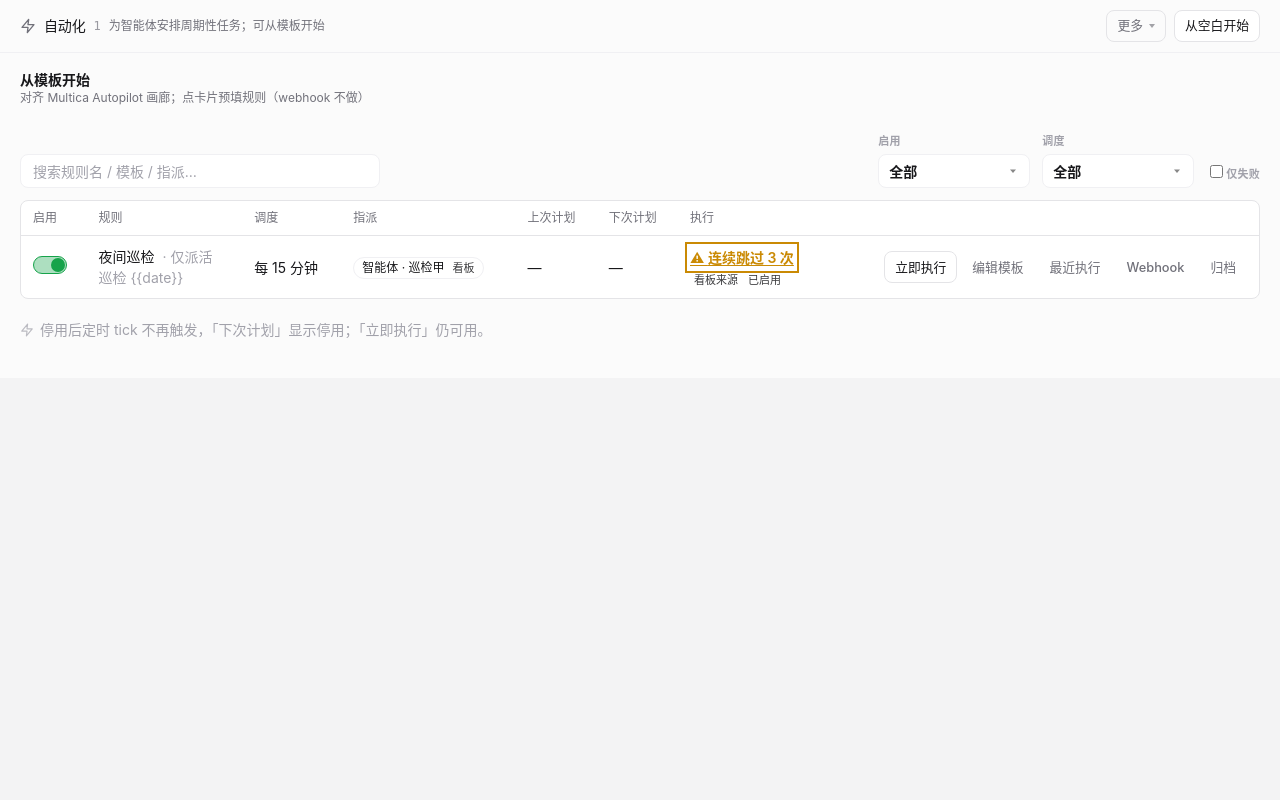
it: AutomationPage skipped streak drilldown › uses a keyboard-operable warning to request the 20-record drilldown and focus its collapsed summary
Press Enter
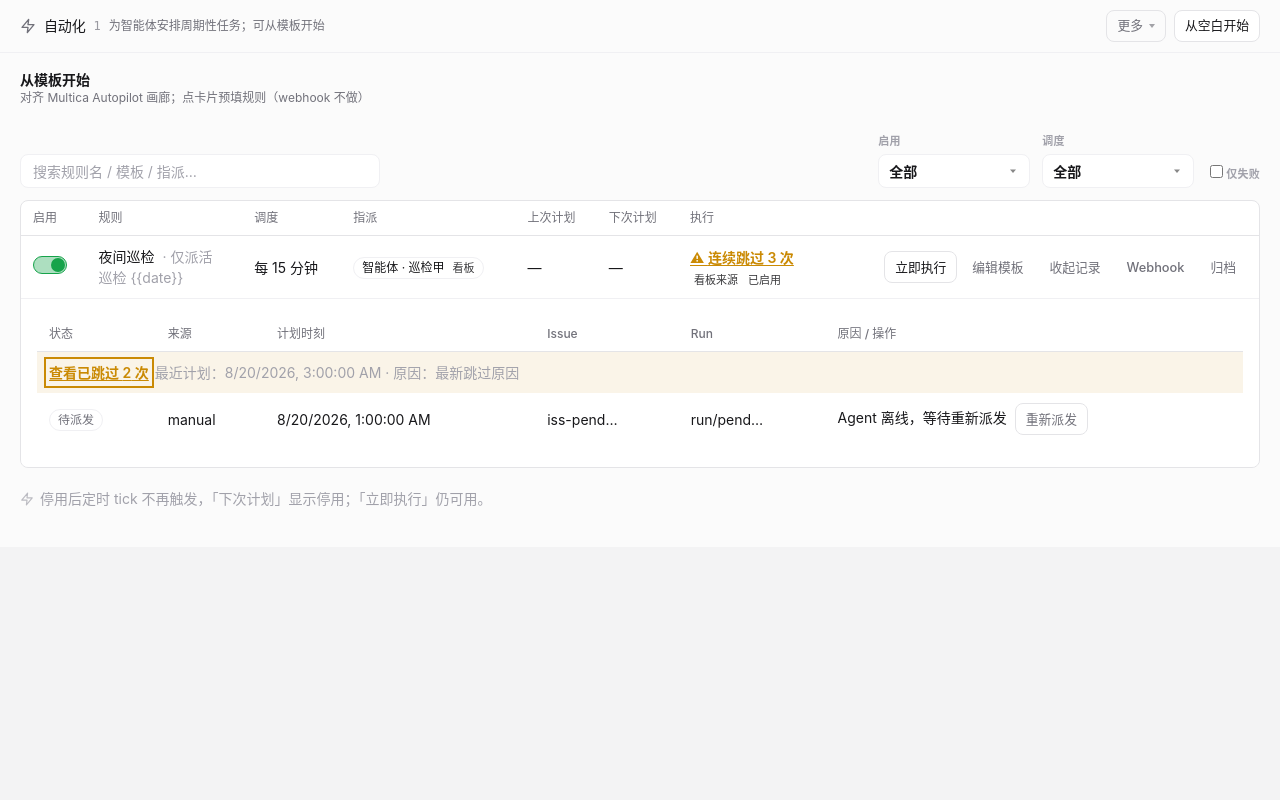
Now the button with test id "automation-skipped-group-rule-1" shows "已跳过 2 次"
Now the text with test id "automation-skipped-summary-rule-1" shows "最新跳过原因", box [435, 364, 519, 381]
Click the button with test id "automation-skipped-group-rule-1".
click(99, 373)  # box [49, 362, 149, 383]
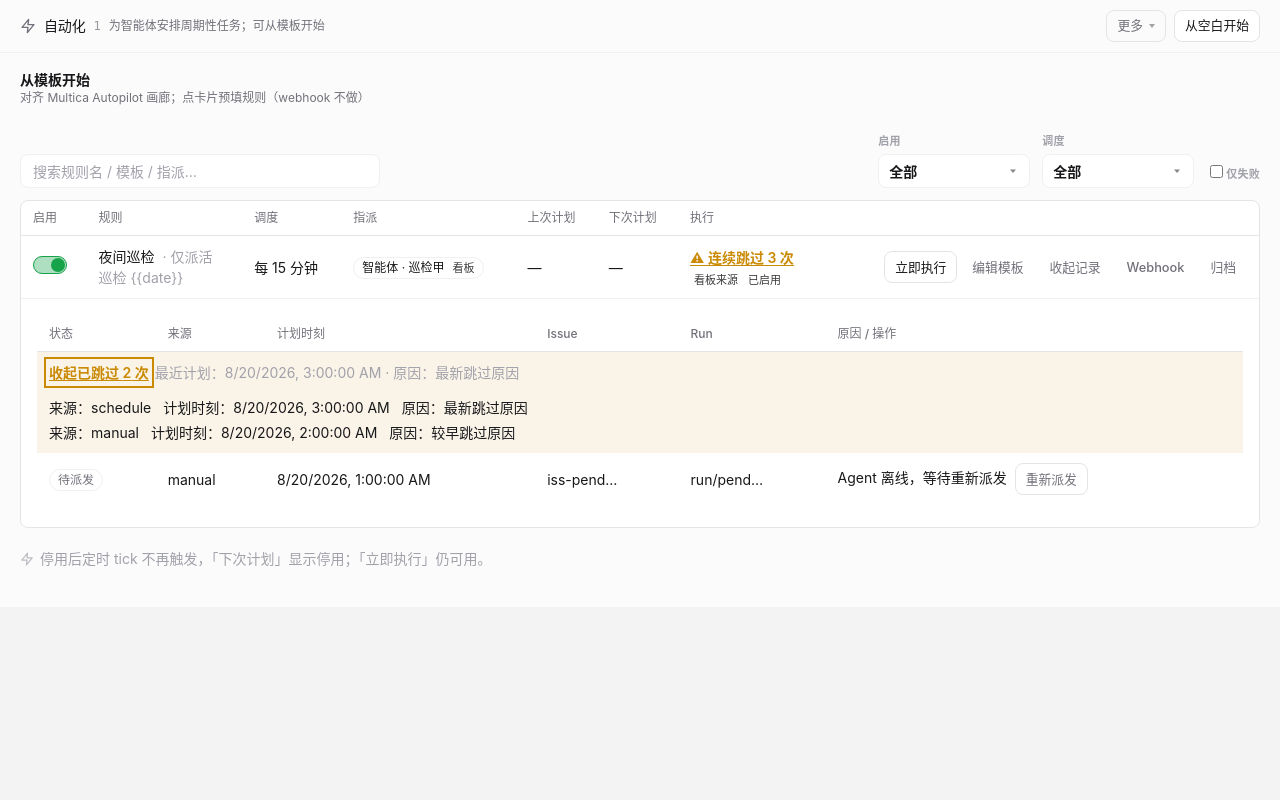
Now the button with test id "automation-skipped-group-rule-1" is expanded, box [49, 362, 149, 383]
Now the list item with test id "automation-skipped-detail-skip-newest" shows "原因：最新跳过原因", box [49, 399, 528, 416]
Now the list item with test id "automation-skipped-detail-skip-earlier" shows "来源：manual", box [49, 424, 515, 441]
